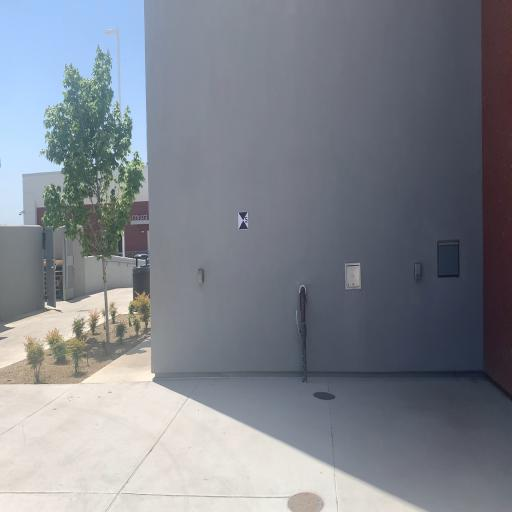target5: (238, 210, 248, 230)
